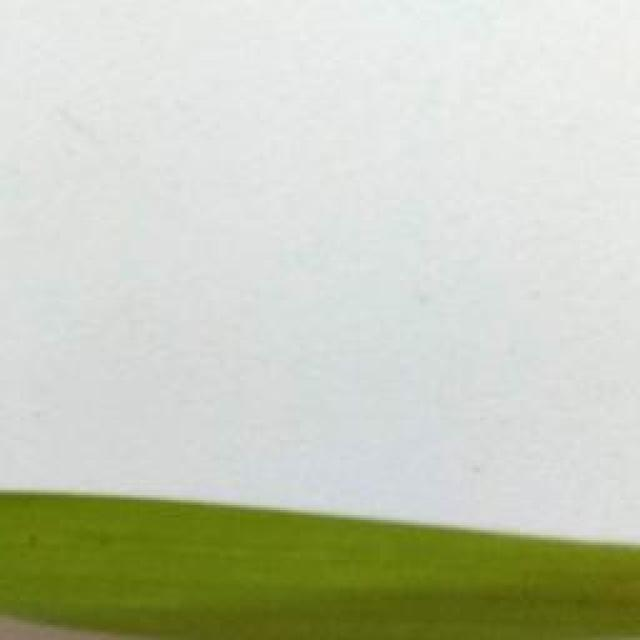Healthy-Plant: (0, 486, 640, 640)
